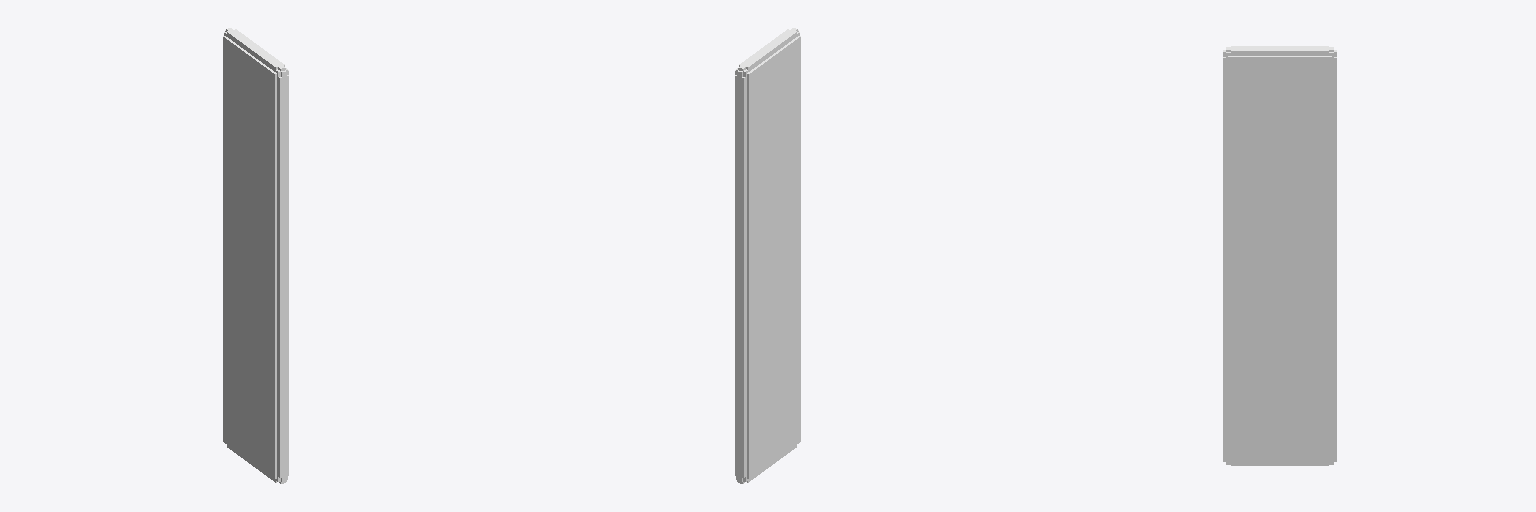
File: factory4.3-13.obj
3 views of the same model, side by side, from view 1: azimuth 30°, elevation 25°; view 2: azimuth 150°, elevation 25°; view 3: azimuth 270°, elevation 25° (orthographic).
Parts seen in each view (by area): view 1: object 1; view 2: object 1; view 3: object 1.
Part boxes in pixels (bbox=[...]): object 1: bbox=[223, 28, 288, 483]; object 1: bbox=[735, 28, 800, 483]; object 1: bbox=[1223, 46, 1336, 465].
Bounding box in the file's own units: 0.6 × 16.4 × 4.1.